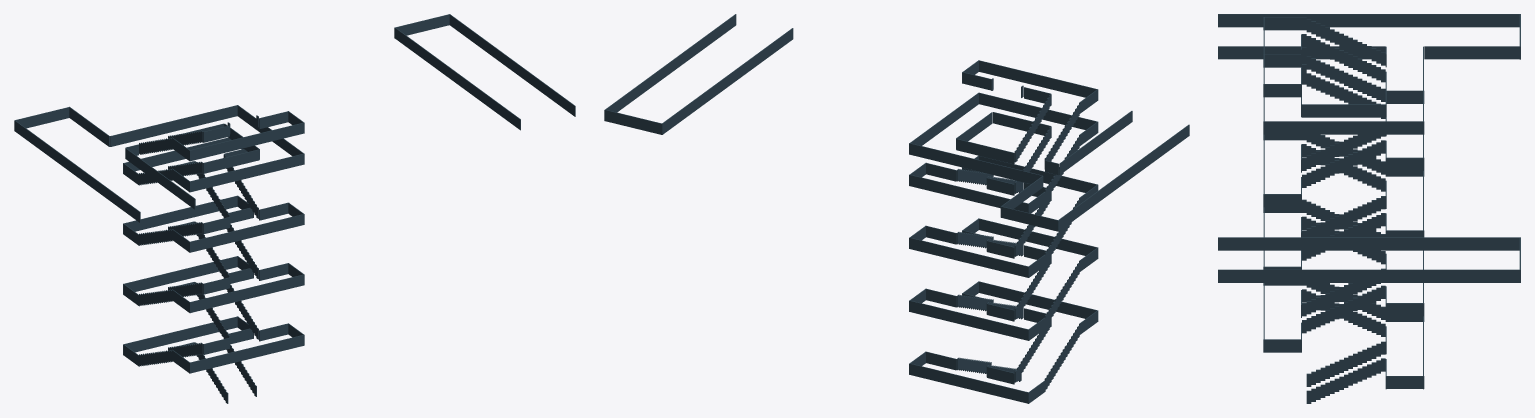
Rendered from v02-01-03-steel.glb.
The picture shows the model from 3 angles, left to right: view 1: azimuth 30°, elevation 25°; view 2: azimuth 150°, elevation 25°; view 3: azimuth 270°, elevation 25°; orthographic projection. The views are drawn at different scales.
Visible parts, largest first — view 1: v02-01-03-steel; view 2: v02-01-03-steel; view 3: v02-01-03-steel.
Boxes of the visible parts, bbox=[...] form: v02-01-03-steel: bbox=[14, 14, 575, 403]; v02-01-03-steel: bbox=[604, 14, 1189, 403]; v02-01-03-steel: bbox=[1218, 14, 1520, 403].
Bounding box in the file's own units: 47 × 29.02 × 23.5.
